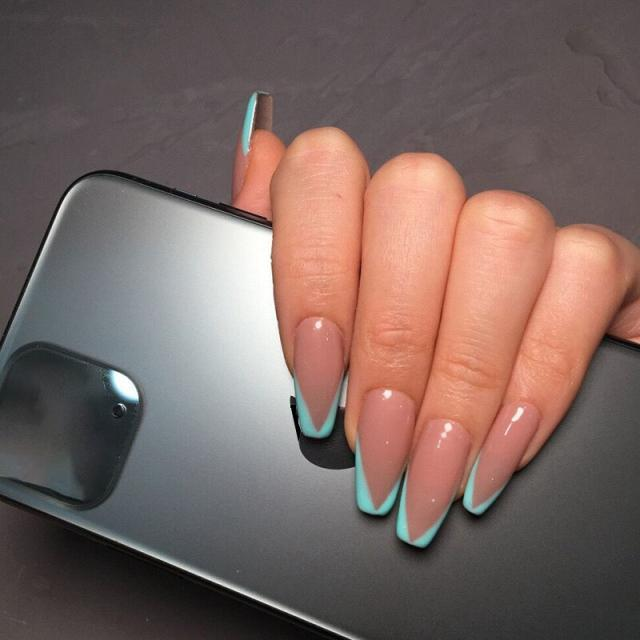Nail: (398, 420, 470, 547), (462, 404, 540, 514), (355, 389, 415, 514), (295, 318, 346, 438), (231, 92, 258, 202)
